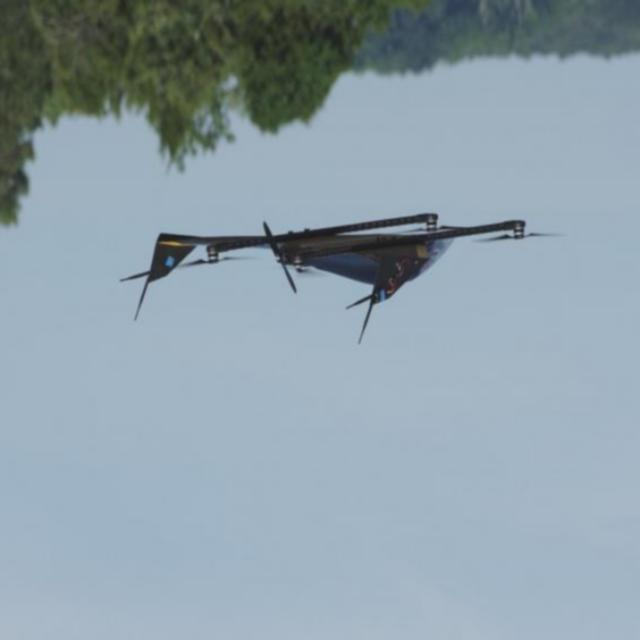plane: (118, 212, 564, 347)
